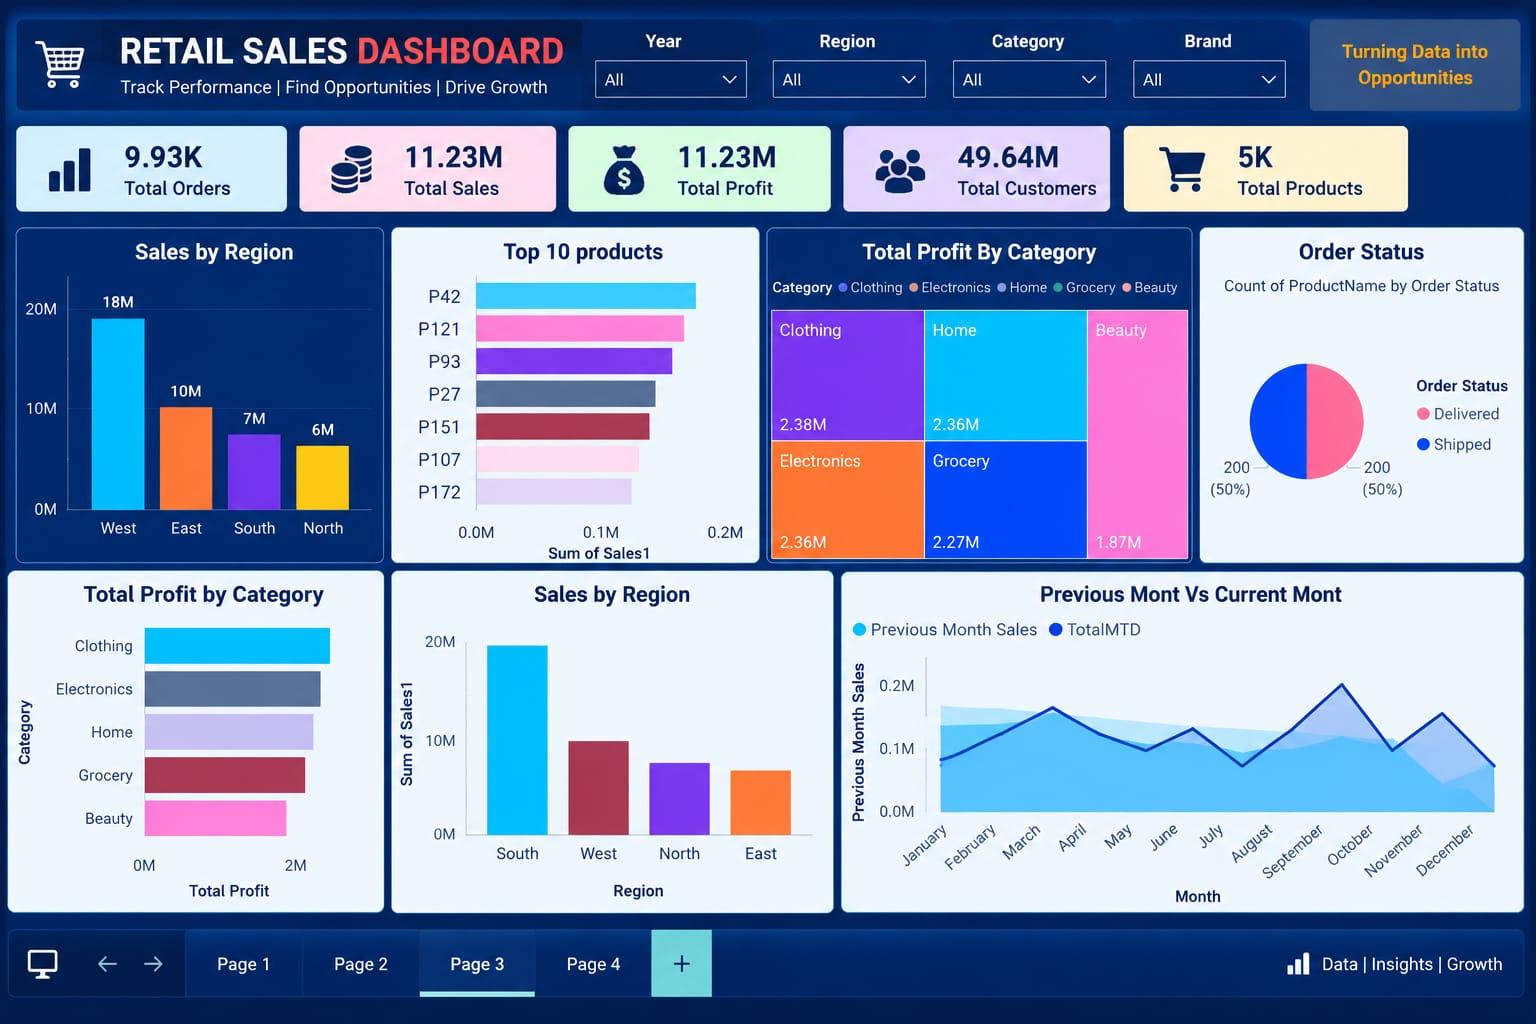

Layout of this report page (visuals, bound fields, positions):
{"tool":"powerbi","page":{"name":"Page 3","canvas":[1280,720],"ordinal":2},"visuals":[{"type":"textbox","title":"SALES ANALYTICS DASHBOARD","box":[0,5.1,480.9,79.3],"z":0},{"type":"barChart","title":"Top 10 products","fields":{"Y":["Sum(Fact Sales.Sales1)"],"Category":["Dim Product.ProductID"]},"box":[283.9,203.4,324.9,246.8],"z":1000},{"type":"clusteredColumnChart","title":"Sales by Region","fields":{"Y":["Sum(Fact Sales.Sales1)"],"Category":["Dim Customer.Region"]},"box":[283.9,454,332.5,258.4],"z":2000},{"type":"treemap","title":"Total Profit By Category","fields":{"Values":["Sum(Fact Sales.Profit)"],"Group":["Dim Product.Category"]},"box":[611.4,203.4,379.9,248.1],"z":3000},{"type":"slicer","title":"Brand","fields":{"Values":["Dim Product.Brand"]},"box":[931.1,2.6,166.3,76.7],"z":4000},{"type":"slicer","title":"Category","fields":{"Values":["Dim Product.Category"]},"box":[785.3,2.6,145.8,76.7],"z":5000},{"type":"slicer","title":"Region","fields":{"Values":["Dim Customer.Region"]},"box":[631.8,6.4,153.5,72.9],"z":6000},{"type":"slicer","title":"Year","fields":{"Values":["Dim Calender.Year"]},"box":[480.9,2.6,144.5,79.3],"z":7000},{"type":"areaChart","title":"Previous Mont Vs Current Mont","fields":{"Category":["Dim Calender.Month"],"Y":["Fact Sales.Previous Month(cp)","Fact Sales.TotalMTD"]},"box":[625.4,451.5,645.9,257.1],"z":8000},{"type":"columnChart","title":"Sales by Region","fields":{"Y":["Sum(Fact Sales.Sales1)"],"Category":["Dim Customer.Region"]},"box":[1.3,203.4,280,235],"z":9000},{"type":"barChart","title":"Total Profit by Category","fields":{"Y":["Fact Sales.Total Profit"],"Category":["Dim Product.Category"]},"box":[0,451.5,280.1,263.5],"z":10000},{"type":"pieChart","title":"Order Status","fields":{"Category":["Fact Sales.Order Status","Dim Customer.CustomerID"],"Y":["CountNonNull(Dim Product.ProductName)"]},"box":[991.2,85.7,289,365.8],"z":11000},{"type":"textbox","box":[1097.4,1.3,182.9,78],"z":12000},{"type":"cardVisual","fields":{"Data":["Fact Sales.Average sales"]},"box":[1.3,84.4,200.8,95.9],"z":12001},{"type":"cardVisual","fields":{"Data":["Sum(Fact Sales.Profit)"]},"box":[202.1,84.4,203.4,95.9],"z":12002},{"type":"cardVisual","fields":{"Data":["Fact Sales.Total Profit","Fact Sales.Total Sales","Fact Sales.Total Orders"]},"box":[408,85.7,523.1,94.6],"z":12003}]}

Visuals, with their boxes on the page's 1280x720 design canvas (x1, y1, x2, y2). These are canvas units, not pixel positions in the 1536x1024 screenshot, which may show the page scaled, cropped or inside an application window:
"SALES ANALYTICS DASHBOARD" textbox: select_region(0, 5, 481, 84)
"Top 10 products" barChart: select_region(284, 203, 609, 450)
"Sales by Region" clusteredColumnChart: select_region(284, 454, 616, 712)
"Total Profit By Category" treemap: select_region(611, 203, 991, 452)
"Brand" slicer: select_region(931, 3, 1097, 79)
"Category" slicer: select_region(785, 3, 931, 79)
"Region" slicer: select_region(632, 6, 785, 79)
"Year" slicer: select_region(481, 3, 625, 82)
"Previous Mont Vs Current Mont" areaChart: select_region(625, 452, 1271, 709)
"Sales by Region" columnChart: select_region(1, 203, 281, 438)
"Total Profit by Category" barChart: select_region(0, 452, 280, 715)
"Order Status" pieChart: select_region(991, 86, 1280, 452)
textbox: select_region(1097, 1, 1280, 79)
cardVisual - Fact Sales.Average sales: select_region(1, 84, 202, 180)
cardVisual - Sum(Fact Sales.Profit): select_region(202, 84, 406, 180)
cardVisual - Fact Sales.Total Profit x Fact Sales.Total Sales: select_region(408, 86, 931, 180)
